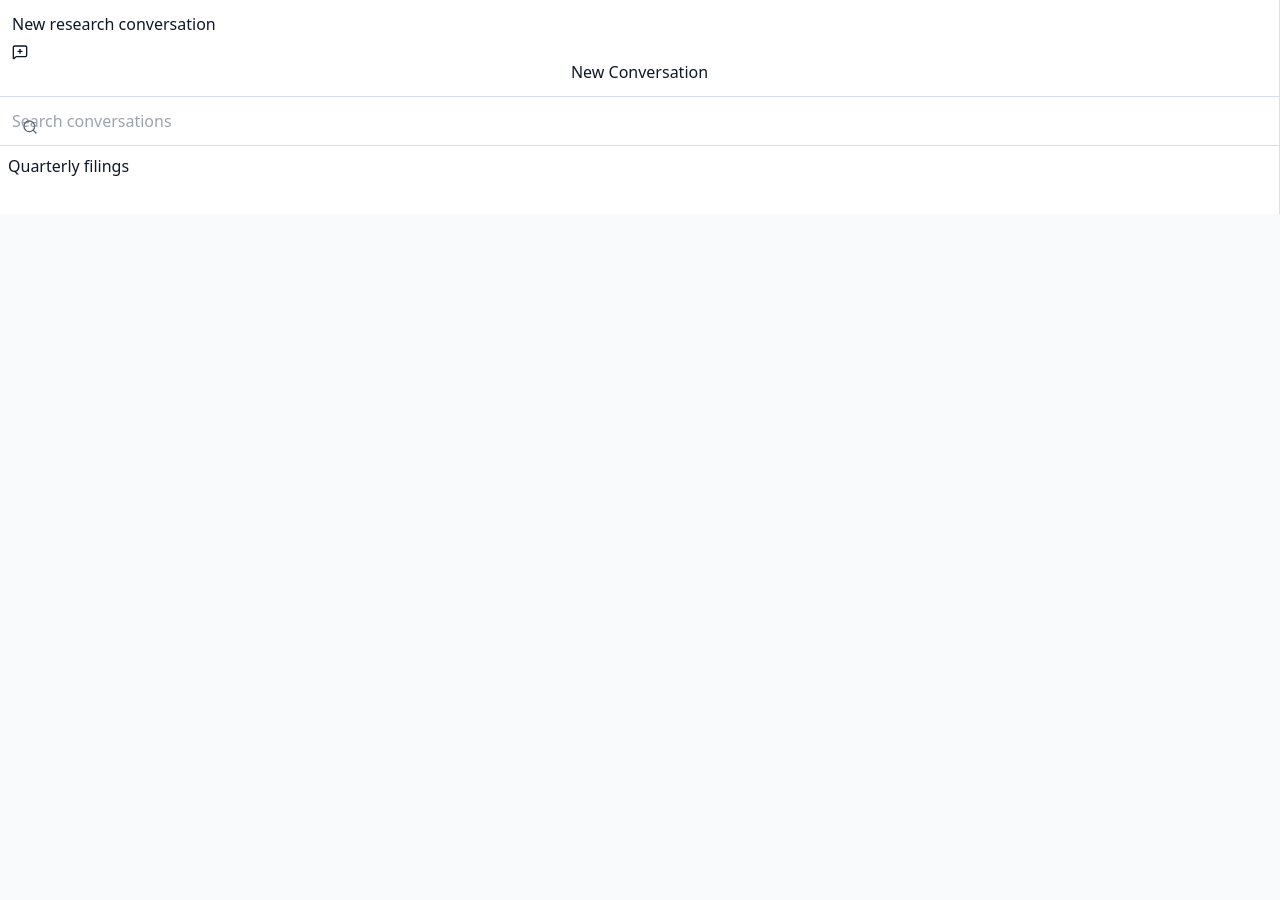
Test case: ConversationSidebar › loads conversations and creates a conversation through the form
Expected: the text "Quarterly filings" is shown, 8,155 -> 129,177
Replace the text in the field named "New conversation title" with "Audit memo" at (640,24), box 12,12 -> 1267,36
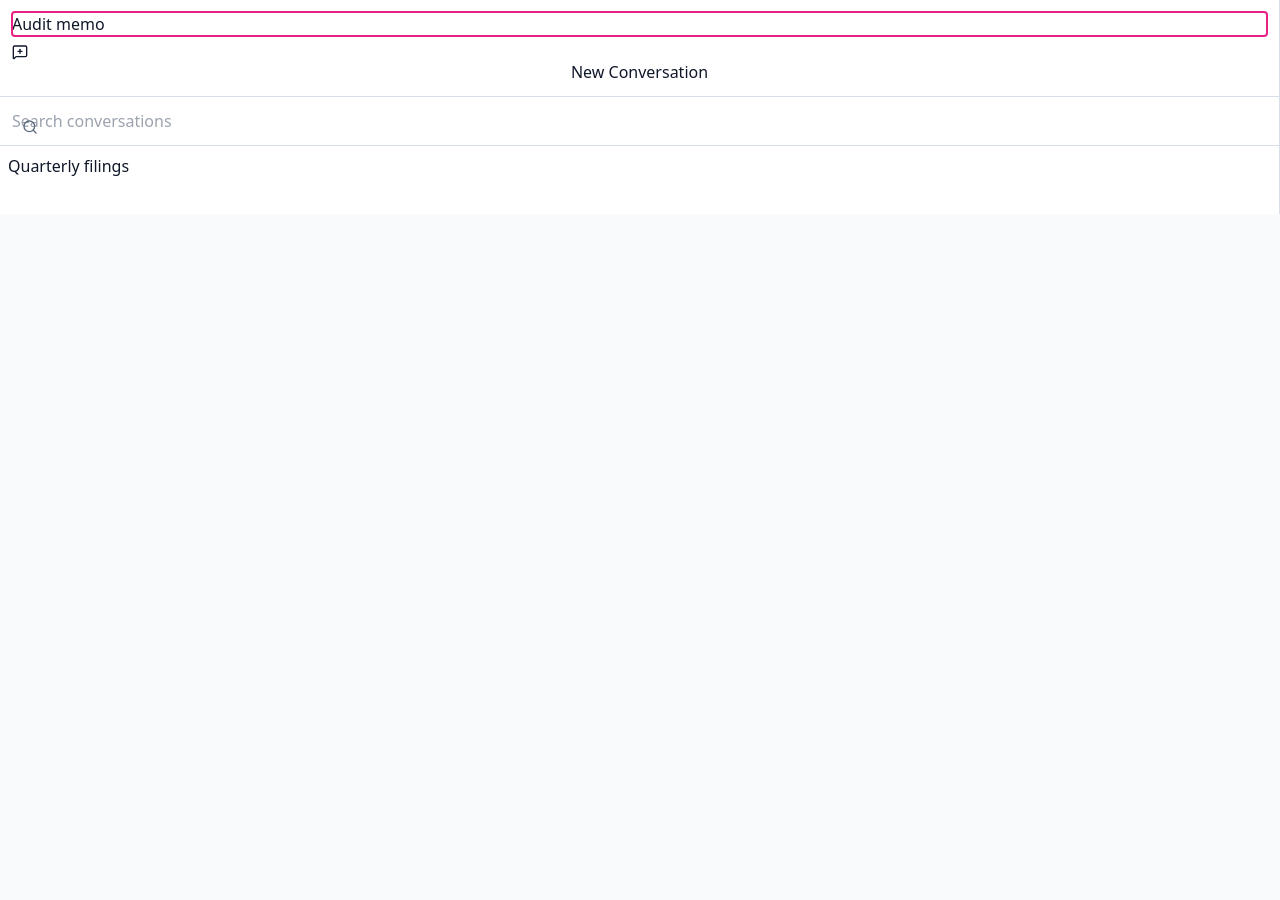
Click the button "New Conversation".
click(640, 64)  # box 12,44 -> 1267,84
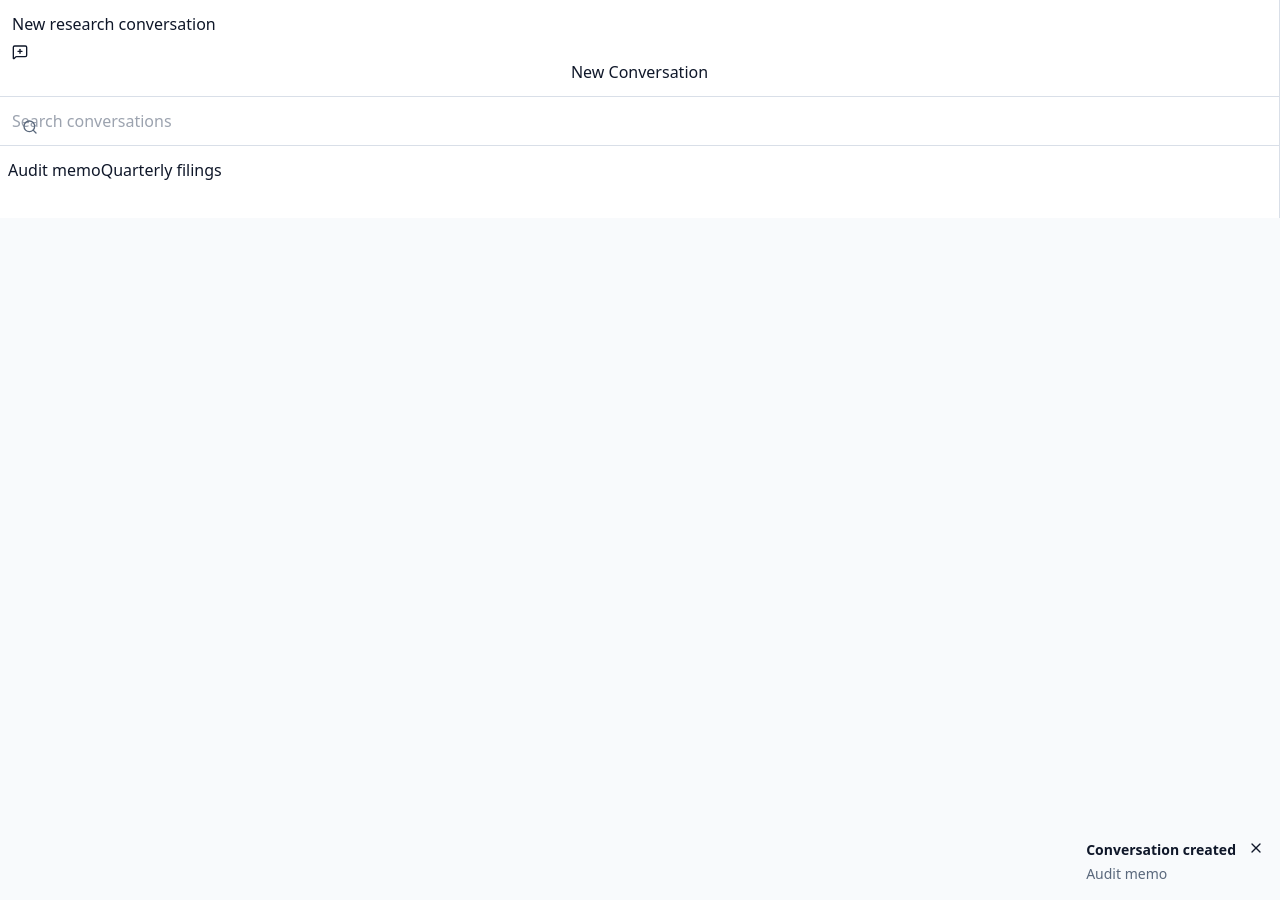
Expected: the text "Conversation created" is shown, 1086,840 -> 1236,860
